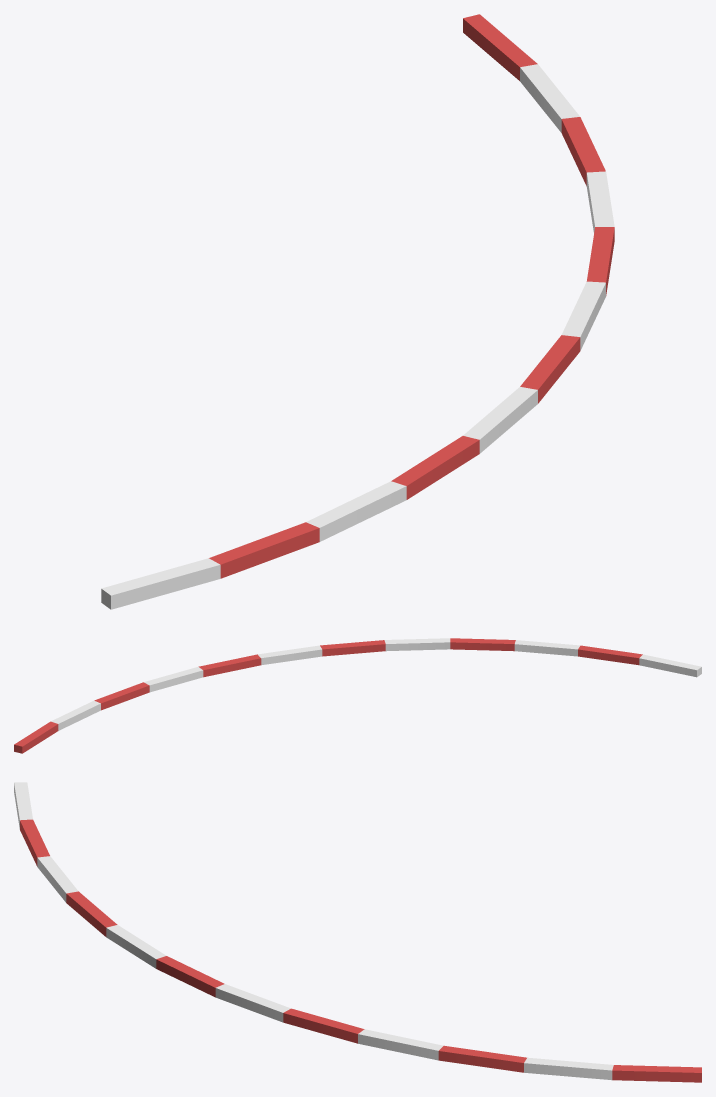
The model's file is roadCornerLargeWall.glb.
The picture shows the model from 3 angles, top to bottom: view 1: azimuth 30°, elevation 25°; view 2: azimuth 150°, elevation 25°; view 3: azimuth 270°, elevation 25°; orthographic projection. The views are drawn at different scales.
Parts seen in each view (by area): view 1: roadCornerLargeWall(Clone); view 2: roadCornerLargeWall(Clone); view 3: roadCornerLargeWall(Clone).
Boxes of the visible parts, x1=… form: roadCornerLargeWall(Clone): x1=101, y1=14, x2=614, y2=609; roadCornerLargeWall(Clone): x1=14, y1=638, x2=701, y2=753; roadCornerLargeWall(Clone): x1=14, y1=782, x2=701, y2=1082.
Size of the model in its own units: 2.58 by 0.04 by 2.58.
